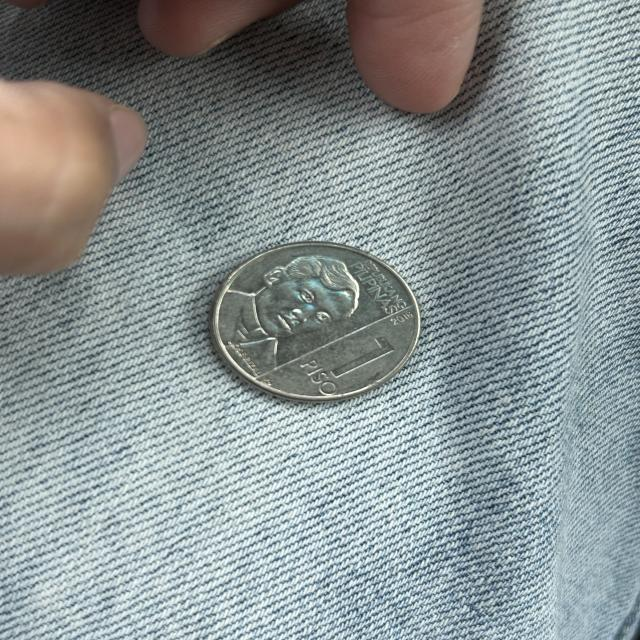1_New_Front: (302, 330, 398, 388)
